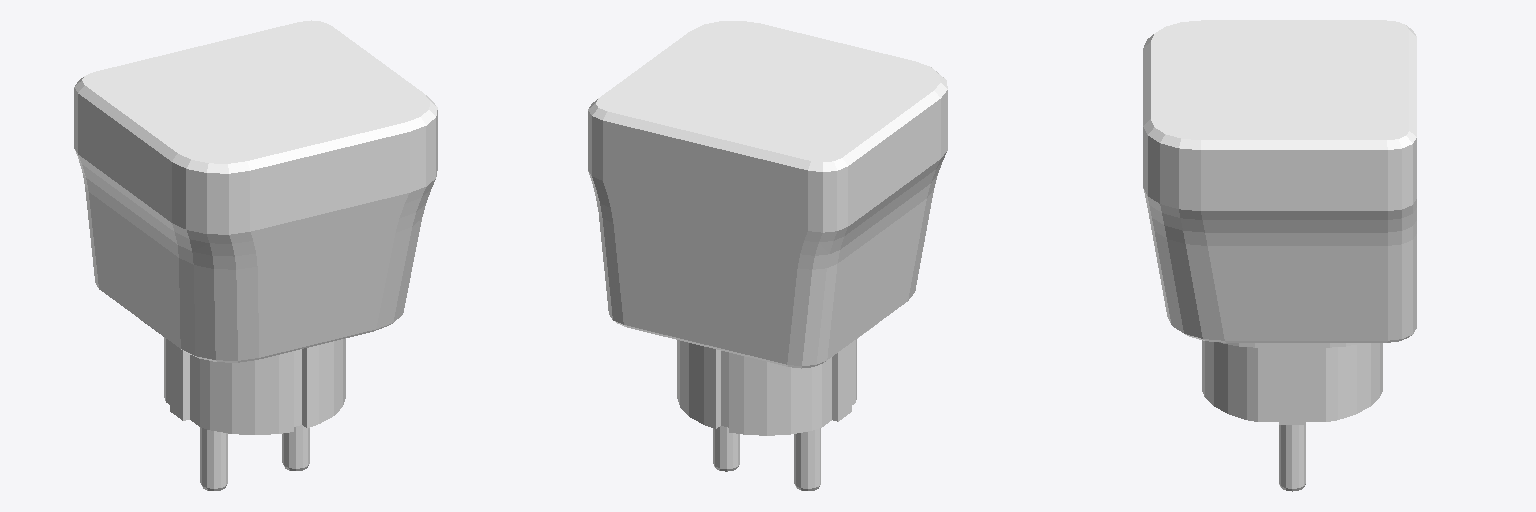
URDF robot description (Plug_EU):
<?xml version="1.0" ?>
<robot name="Plug_EU">
 <link name="baseLink" concave="yes">
   <contact>
     <lateral_friction value="0.5"/>
   </contact>
   <inertial>
     <origin rpy="0 0 0" xyz="0.0 0.0 0.0"/>
      <mass value="1.0"/>
      <inertia ixx="0" ixy="0" ixz="0" iyy="0" iyz="0" izz="0"/>
   </inertial>
   <visual>
     <origin rpy="0 0 0" xyz="0 0 0"/>
     <geometry>
       <mesh filename="package://bopt_gmm/objects/electrical_plugs/Plug_EU.obj" scale="1.0 1.0 1.0"/>
     </geometry>
      <material name="white">
       <color rgba="1 1 1 1"/>
     </material>
   </visual>
   <collision concave="yes">
     <origin rpy="0 0 0" xyz="0 0 0"/>
     <geometry>
       <mesh filename="package://bopt_gmm/objects/electrical_plugs/Plug_EU.obj" scale="1.0 1.0 1.0"/>
     </geometry>
   </collision>
 </link>
</robot>

--- Render facts (derived) ---
The picture shows the robot from 3 angles, left to right: view 1: azimuth 30°, elevation 25°; view 2: azimuth 150°, elevation 25°; view 3: azimuth 270°, elevation 25°; orthographic projection.
Model Plug_EU with 1 links and 0 joints (none), rooted at baseLink, posed every joint at zero.
Links seen in each view (by area): view 1: baseLink; view 2: baseLink; view 3: baseLink.
Link boxes in pixels (<box>): baseLink: <box>74,20,437,490</box>; baseLink: <box>588,21,947,490</box>; baseLink: <box>1143,20,1416,491</box>.
Bounding box of the posed robot: 0.06 × 0.055 × 0.086 m (x, y, z).
1 mesh visuals loaded from 1 distinct referenced files (1 OBJ).